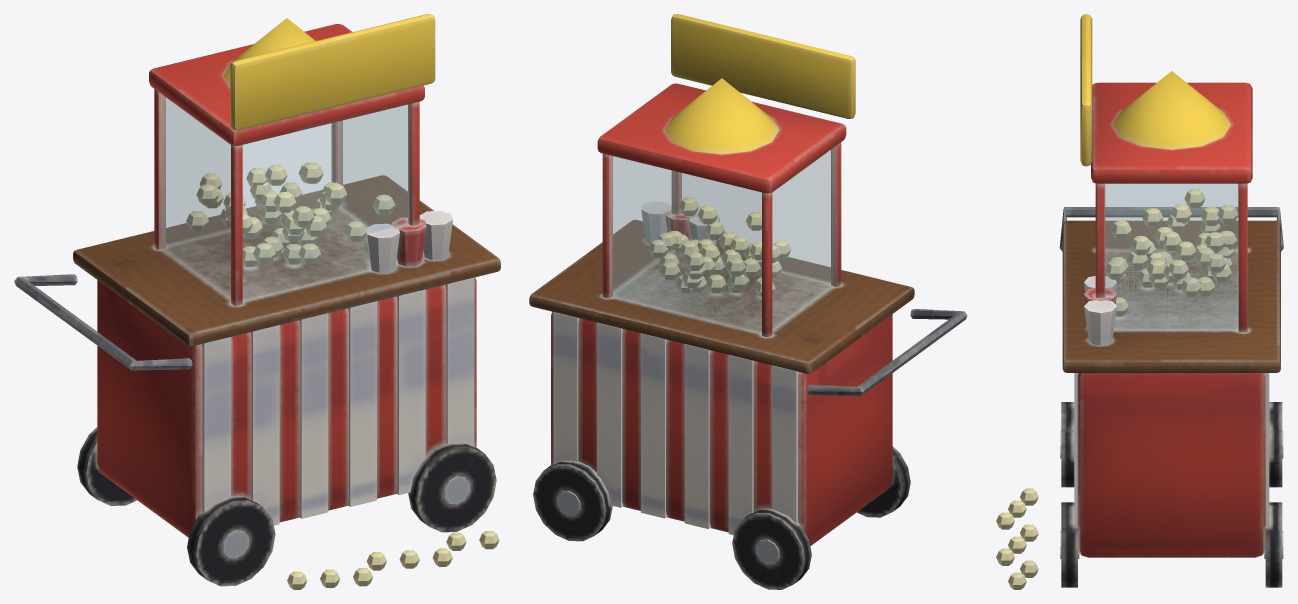
Rendered from popcorn_stand.glb.
3 renders of one model, left to right at view 1: azimuth 30°, elevation 25°; view 2: azimuth 150°, elevation 25°; view 3: azimuth 270°, elevation 25°, orthographic. The views are drawn at different scales.
Parts seen in each view (by area): view 1: SM_PopcornStand; view 2: SM_PopcornStand; view 3: SM_PopcornStand.
Boxes of the visible parts, x1,y1,x2,y2 form: SM_PopcornStand: [14, 14, 500, 589]; SM_PopcornStand: [529, 14, 967, 589]; SM_PopcornStand: [996, 14, 1283, 589].
Size of what is drawn, in the model's own units: 1.68 by 2.22 by 1.21.
Materials: 2 (1 with a texture image).
